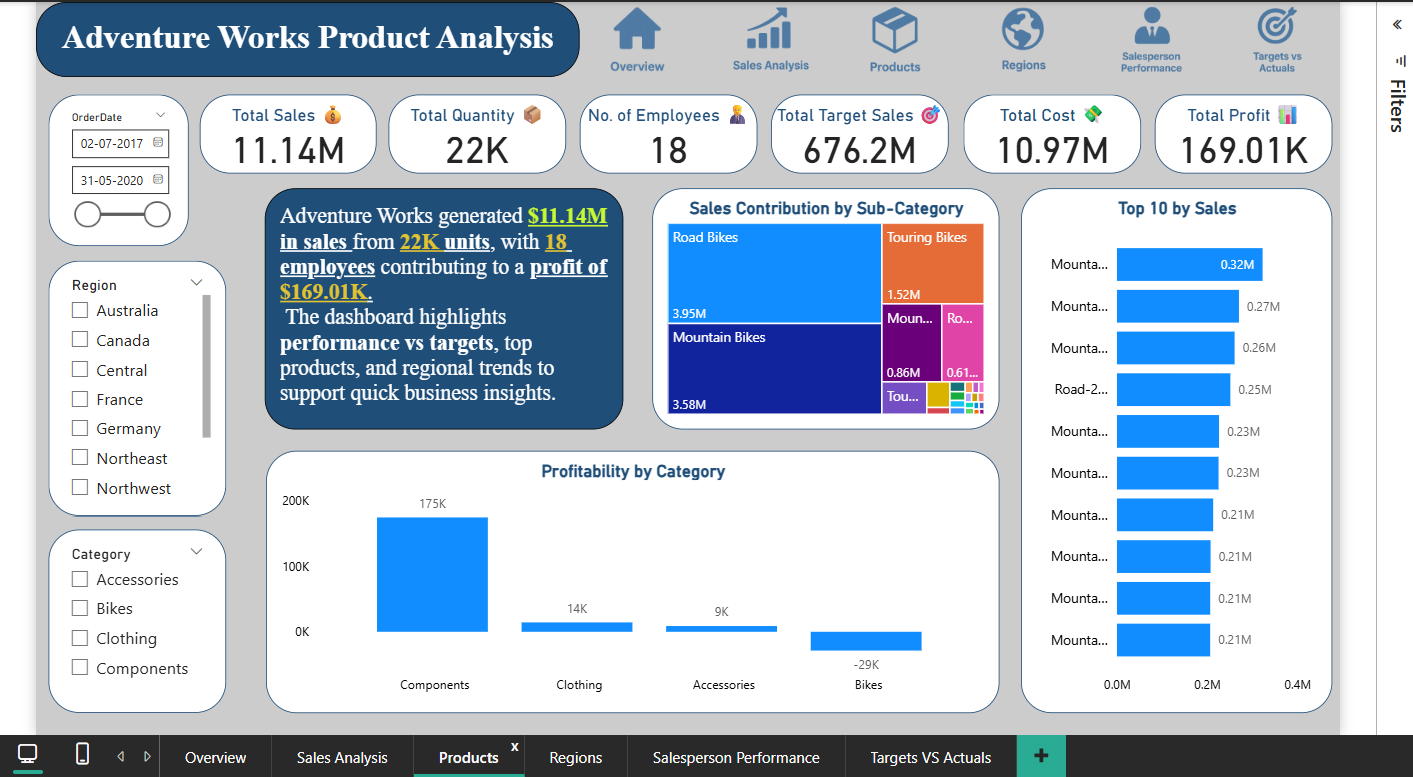

Layout of this report page (visuals, bound fields, positions):
{"tool":"powerbi","page":{"name":"Products","canvas":[1280,720],"ordinal":2},"visuals":[{"type":"textbox","box":[0,0,533.7,73.6],"z":0},{"type":"image","box":[521.5,0,138.5,73.6],"z":0,"group":"g2"},{"type":"card","title":"Total Sales 💰","fields":{"Values":["adventure_works sales.Total Sales"]},"box":[160.7,91,173.7,77.9],"z":0,"group":"g1"},{"type":"image","box":[660,0,122.9,73.6],"z":1000,"group":"g2"},{"type":"group","id":"g1","title":"Group 1","box":[160.7,91,1111.7,78.5],"z":1000},{"type":"card","title":"Total Quantity 📦","fields":{"Values":["Sum(adventure_works sales.Quantity)"]},"box":[345.7,91.6,174.1,77.9],"z":1000,"group":"g1"},{"type":"group","id":"g2","title":"Group 2","box":[521.5,0,758.3,73.6],"z":2000},{"type":"image","box":[782.9,0,122.9,73.6],"z":2000,"group":"g2"},{"type":"card","title":"No. of Employees 👨💼","fields":{"Values":["Count(adventure_works salesperson.EmployeeID)"]},"box":[533.5,91.6,174.1,77.9],"z":2000,"group":"g1"},{"type":"image","box":[905.8,0,128.1,73.6],"z":3000,"group":"g2"},{"type":"card","title":"Total Target Sales 🎯","fields":{"Values":["Sum(adventure_works targets.Target)"]},"box":[721.3,91.6,174.1,77.9],"z":3000,"group":"g1"},{"type":"columnChart","title":"Profitability by Category","fields":{"Category":["adventure_works product.Category"],"Y":["adventure_works sales.Total Profit"]},"box":[225.2,440.4,719.8,258],"z":3000},{"type":"image","box":[1033.9,0,122.9,73.6],"z":4000,"group":"g2"},{"type":"card","title":"Total Cost 💸","fields":{"Values":["Sum(adventure_works sales.Cost)"]},"box":[910.5,91.6,174.1,77.9],"z":4000,"group":"g1"},{"type":"barChart","title":"Top 10 by Sales ","fields":{"Y":["Sum(adventure_works sales.Sales)"],"Category":["adventure_works product.Product"]},"box":[966.9,182.8,305.5,515.3],"z":4000},{"type":"image","box":[1156.9,0,122.9,73.6],"z":5000,"group":"g2"},{"type":"card","title":"Total Profit 📊","fields":{"Values":["adventure_works sales.Total Profit"]},"box":[1098.3,91.6,174.1,77.9],"z":5000,"group":"g1"},{"type":"treemap","title":"Sales Contribution by Sub-Category","fields":{"Group":["adventure_works product.Subcategory"],"Values":["Sum(adventure_works sales.Sales)"]},"box":[604.4,182.4,340.7,236.6],"z":5000},{"type":"slicer","fields":{"Values":["adventure_works sales.OrderDate"]},"box":[12.3,90.8,137.4,148.5],"z":6000},{"type":"slicer","fields":{"Values":["adventure_works region.Region"]},"box":[12.3,254,174.2,250.3],"z":7000},{"type":"slicer","fields":{"Values":["adventure_works product.Category"]},"box":[12.3,517.8,174.2,180.4],"z":8000},{"type":"textbox","box":[224.5,182.8,352.1,236.8],"z":10000}]}

Visuals, with their boxes on the page's 1280x720 design canvas (x1, y1, x2, y2). These are canvas units, not pixel positions in the 1413x777 screenshot, which may show the page scaled, cropped or inside an application window:
textbox: 0:0:534:74
image: 522:0:660:74
"Total Sales 💰" card: 161:91:334:169
image: 660:0:783:74
"Group 1" group: 161:91:1272:170
"Total Quantity 📦" card: 346:92:520:170
"Group 2" group: 522:0:1280:74
image: 783:0:906:74
"No. of Employees 👨💼" card: 534:92:708:170
image: 906:0:1034:74
"Total Target Sales 🎯" card: 721:92:895:170
"Profitability by Category" columnChart: 225:440:945:698
image: 1034:0:1157:74
"Total Cost 💸" card: 910:92:1085:170
"Top 10 by Sales " barChart: 967:183:1272:698
image: 1157:0:1280:74
"Total Profit 📊" card: 1098:92:1272:170
"Sales Contribution by Sub-Category" treemap: 604:182:945:419
slicer - adventure_works sales.OrderDate: 12:91:150:239
slicer - adventure_works region.Region: 12:254:186:504
slicer - adventure_works product.Category: 12:518:186:698
textbox: 224:183:577:420
